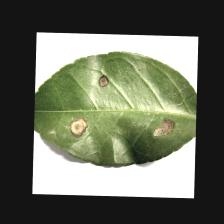canker: (56, 70, 183, 154)
